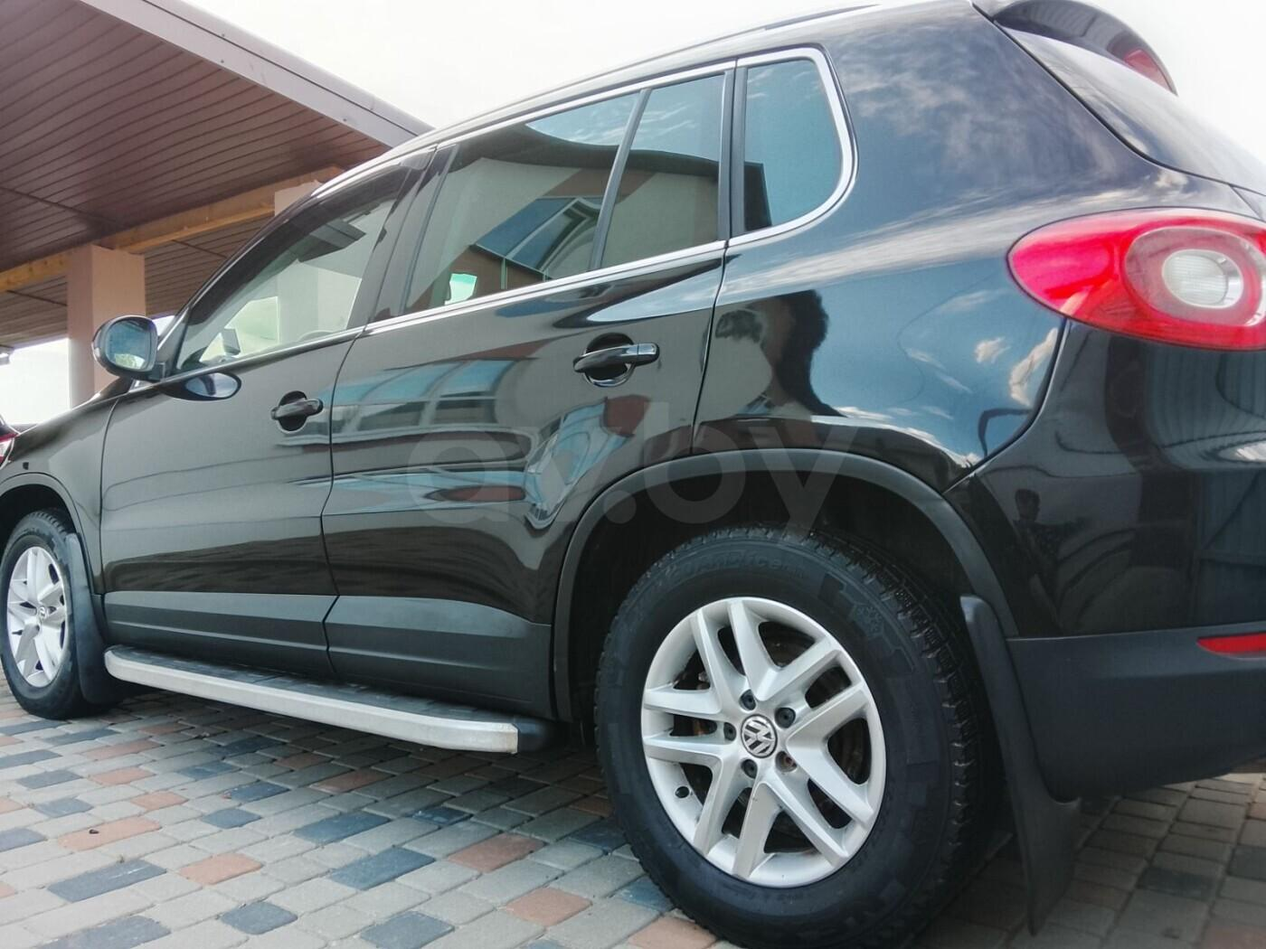Tiguan_2007-2011: (0, 1, 1266, 949)
